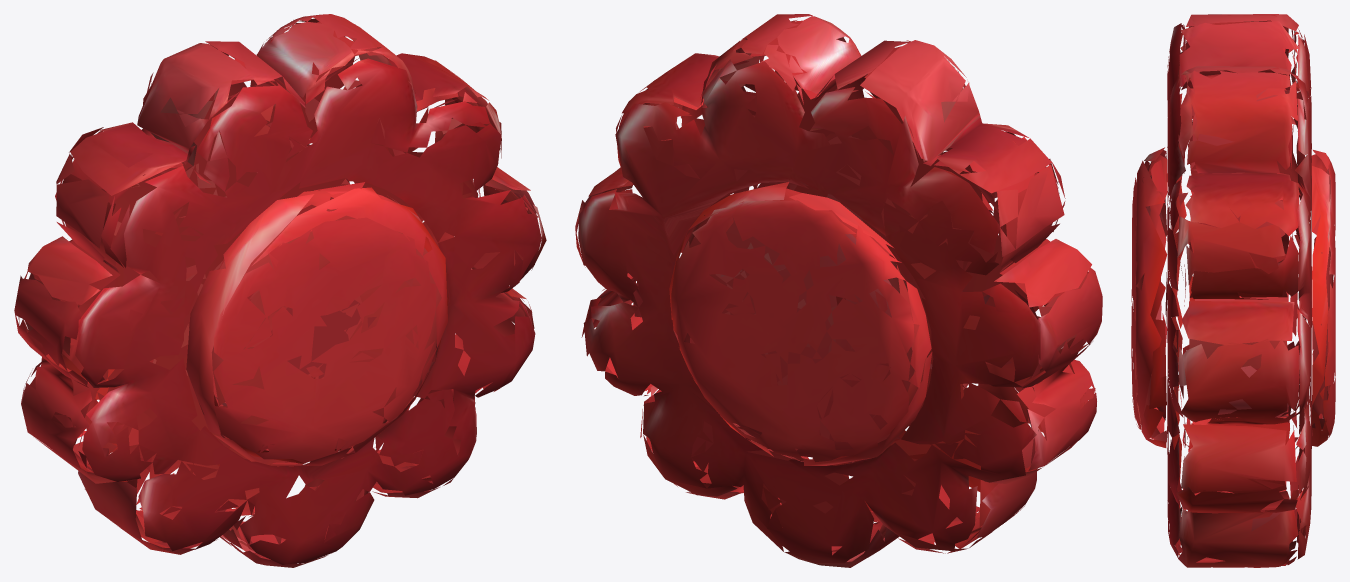
The model's file is bur.glb.
3 views of the same model, side by side, from view 1: azimuth 30°, elevation 25°; view 2: azimuth 150°, elevation 25°; view 3: azimuth 270°, elevation 25° (orthographic).
Bounding box in the file's own units: 0.0452 × 0.0451 × 0.0167.
Materials: 1 (1 with a texture image).
